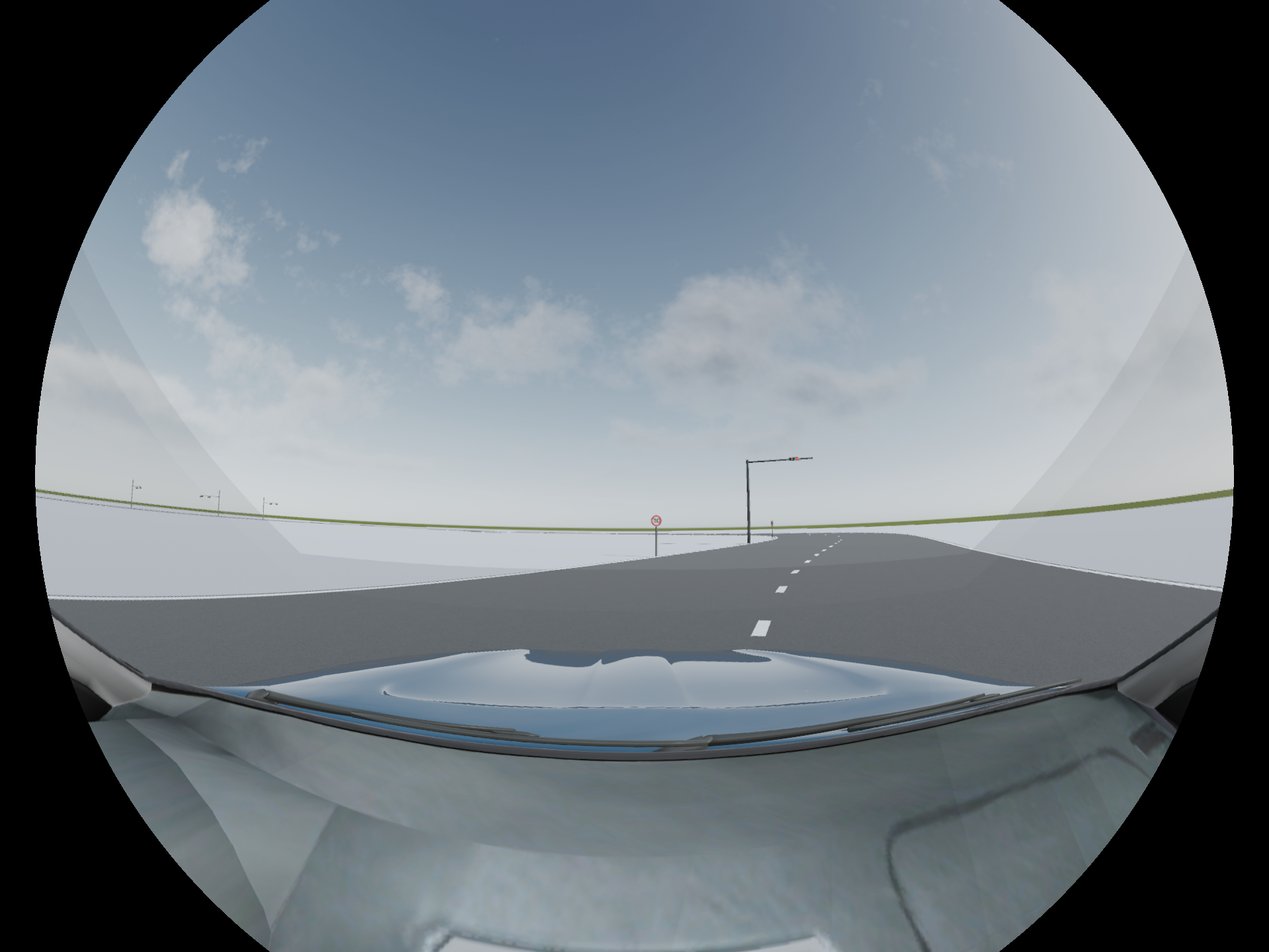Red Light: (788, 456, 800, 461)
Speed Limit 110: (651, 514, 662, 527)
